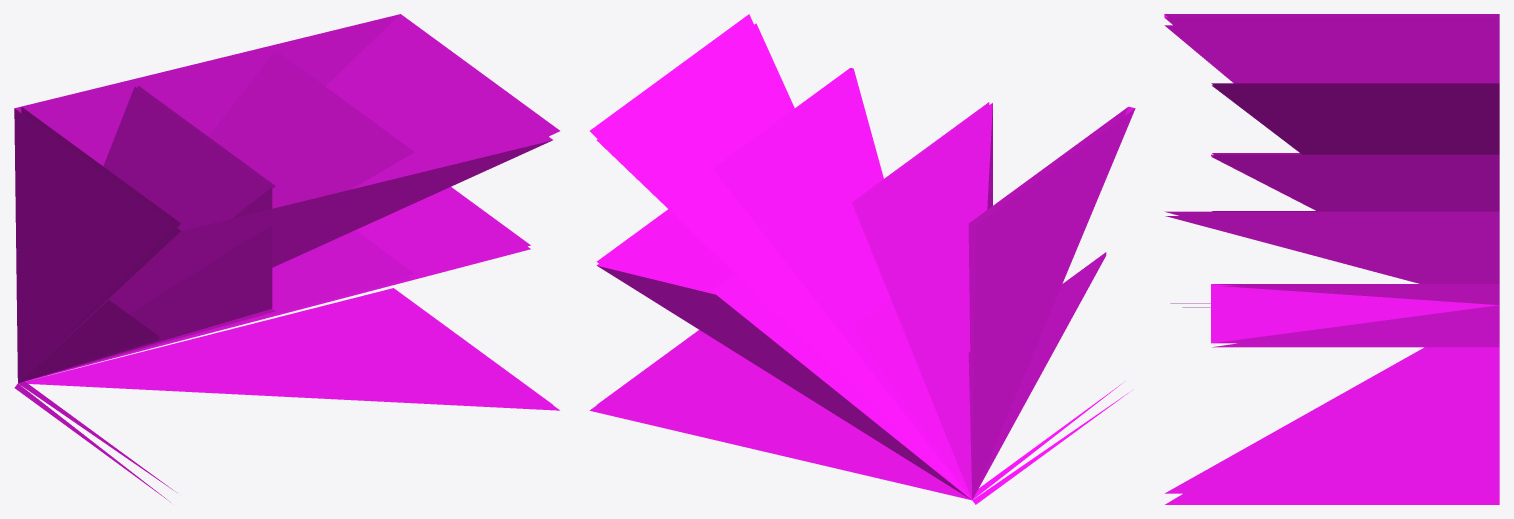
The picture shows the model from 3 angles, left to right: view 1: azimuth 30°, elevation 25°; view 2: azimuth 150°, elevation 25°; view 3: azimuth 270°, elevation 25°; orthographic projection. The views are drawn at different scales.
Parts seen in each view (by area): view 1: B4, 70, 92; view 2: B4, 70, 92; view 3: B4, 70, 92.
Part boxes in pixels (bbox=[...]): B4: bbox=[14, 14, 559, 502]; 70: bbox=[27, 51, 530, 380]; 92: bbox=[18, 85, 275, 383]; B4: bbox=[590, 14, 1135, 504]; 70: bbox=[596, 68, 971, 499]; 92: bbox=[852, 102, 1106, 499]; B4: bbox=[1164, 14, 1499, 504]; 70: bbox=[1211, 154, 1499, 347]; 92: bbox=[1211, 83, 1499, 211].
Size of the model in its own units: 12000 by 8300 by 8600.
